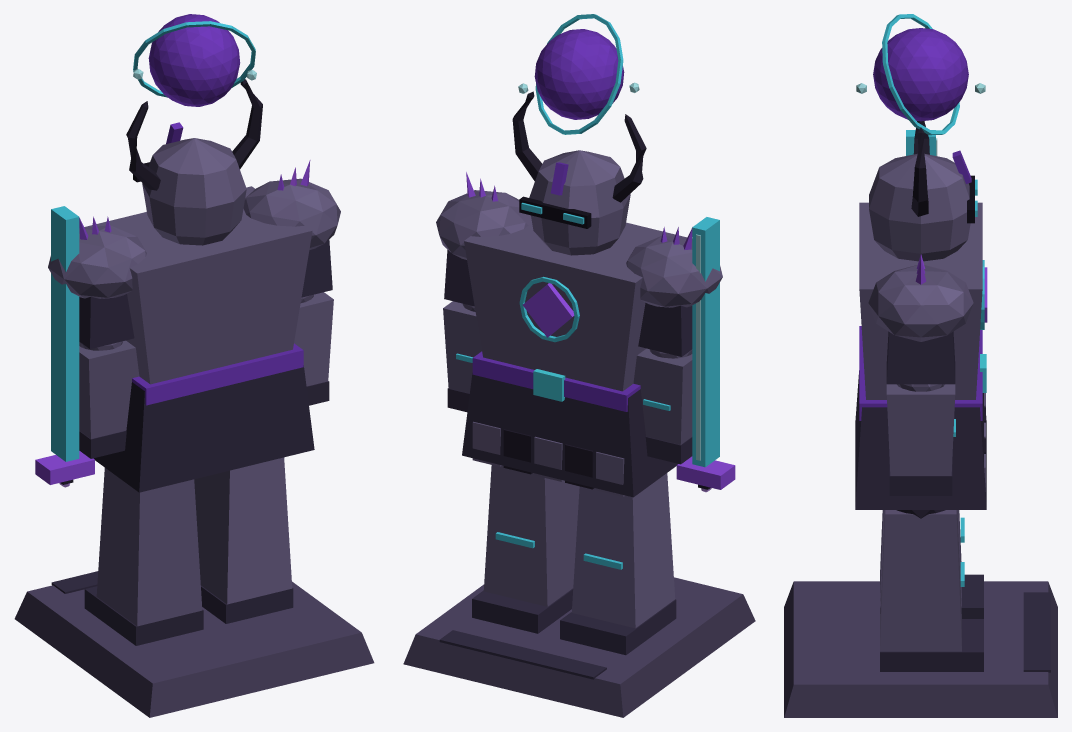
The model's file is Decor_VoidPortal_Sentinel.fbx.
3 renders of one model, left to right at view 1: azimuth 30°, elevation 25°; view 2: azimuth 150°, elevation 25°; view 3: azimuth 270°, elevation 25°, orthographic. The views are drawn at different scales.
Visible parts, largest first — view 1: Sentinel_Body; view 2: Sentinel_Body; view 3: Sentinel_Body.
Part boxes in pixels (left/top/right/bottom): Sentinel_Body: left=14, top=14, right=374, bottom=717; Sentinel_Body: left=403, top=14, right=755, bottom=717; Sentinel_Body: left=784, top=14, right=1057, bottom=717.
Bounding box in the file's own units: 24.8 × 51.5 × 20.
